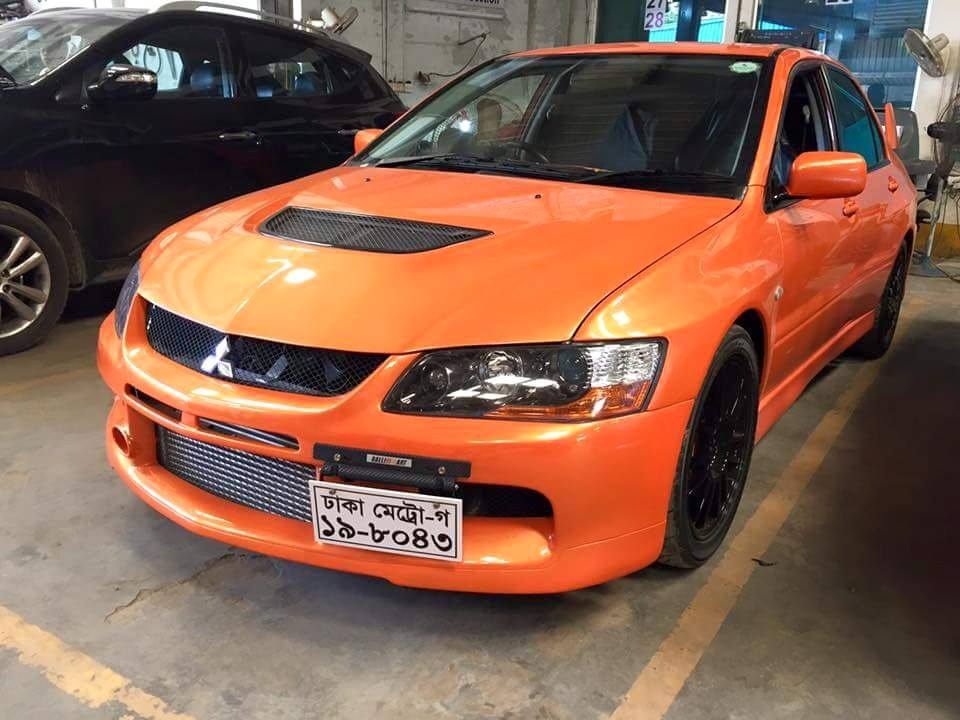registration_plate: (308, 479, 464, 563)
